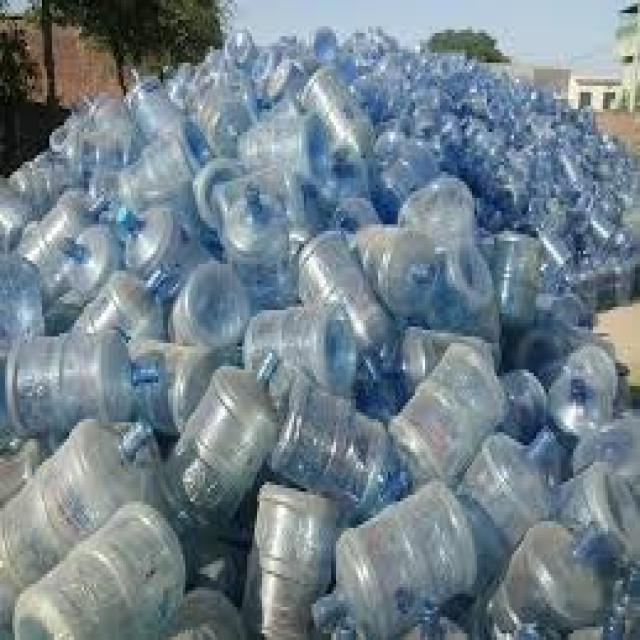plastic: (0, 412, 158, 627), (309, 472, 474, 637), (10, 498, 193, 637), (257, 356, 403, 505), (452, 422, 566, 607), (395, 169, 502, 357), (386, 330, 502, 485), (161, 350, 272, 511), (464, 515, 608, 637), (282, 224, 390, 386), (5, 330, 156, 435), (240, 475, 336, 637), (126, 333, 240, 436), (240, 297, 358, 392), (17, 185, 109, 297), (106, 119, 215, 208), (220, 178, 299, 300), (338, 221, 440, 313), (551, 455, 638, 561), (111, 201, 210, 287), (235, 99, 326, 188), (0, 254, 42, 432), (62, 267, 163, 340), (166, 261, 247, 347), (514, 228, 595, 314), (492, 125, 588, 195), (297, 59, 368, 152), (191, 76, 260, 155), (482, 228, 541, 320), (546, 363, 613, 439), (54, 221, 121, 294), (183, 521, 245, 594), (158, 584, 242, 637), (571, 406, 635, 472), (502, 182, 593, 228), (519, 287, 588, 346), (497, 360, 546, 442), (188, 155, 242, 228), (79, 89, 138, 155), (123, 63, 178, 132), (499, 327, 568, 380), (0, 432, 49, 504), (576, 244, 638, 297), (405, 79, 465, 132), (395, 600, 472, 637), (0, 175, 32, 264), (368, 60, 410, 126), (371, 126, 435, 169), (366, 149, 415, 205), (563, 337, 613, 390), (588, 129, 638, 182), (8, 149, 50, 211), (551, 102, 598, 155), (477, 66, 526, 115), (460, 116, 502, 172), (586, 185, 630, 238), (329, 185, 378, 231), (561, 610, 637, 637), (608, 554, 637, 620), (47, 109, 96, 148), (433, 109, 465, 162), (40, 284, 82, 323), (391, 40, 438, 73), (158, 63, 200, 99), (344, 23, 391, 53), (517, 86, 559, 119), (242, 43, 274, 86), (262, 53, 294, 96), (445, 79, 484, 112), (222, 26, 252, 66), (302, 26, 339, 56), (430, 50, 472, 73), (326, 610, 358, 637), (610, 367, 628, 413), (198, 43, 222, 69), (272, 33, 299, 49)
